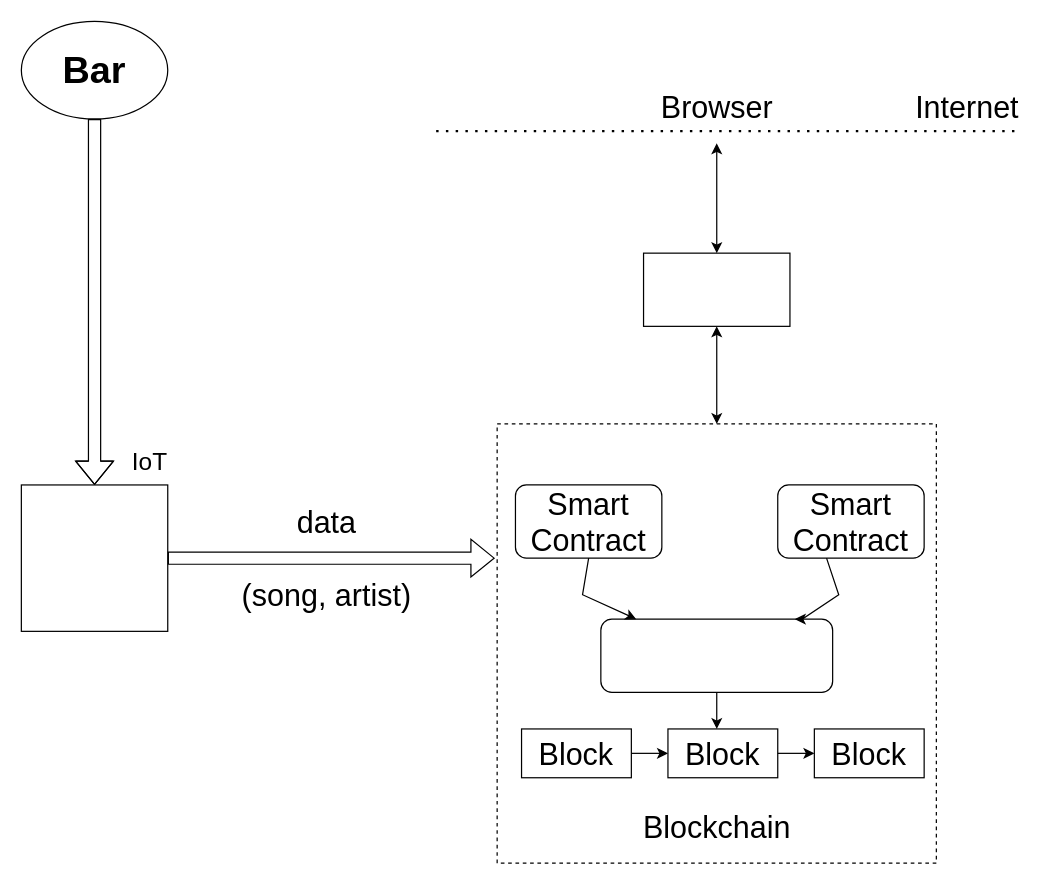
The diagram is 1055 pixels wide and 885 high, and some of its shapes have lost their labels. Each missing label, with the centre of its shape:
CLIENT: [716,289]
Ethereum: [716,655]
Song Recognition: [94,557]
